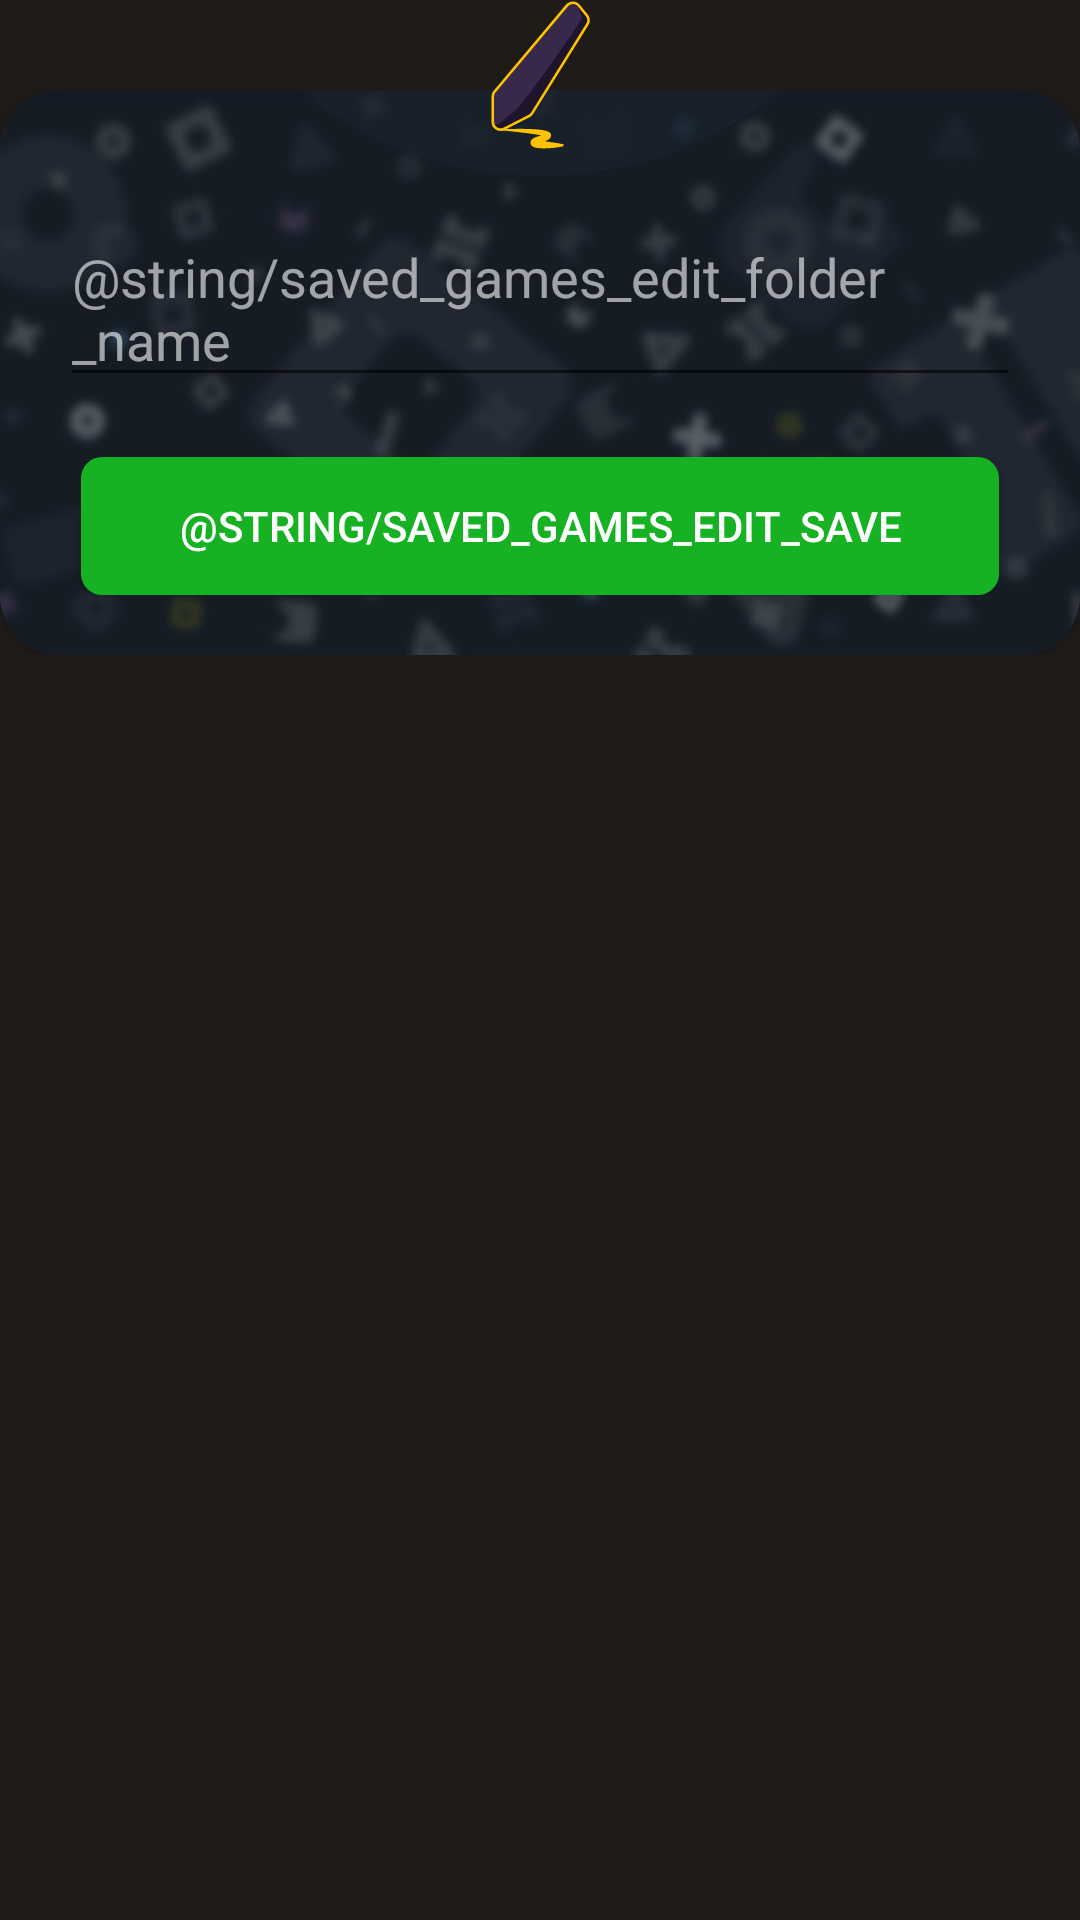

Point at icon controls on the screen. Image size 1080px×1920px, points as point (x, y).
saved game edit popup: point (540, 75)
